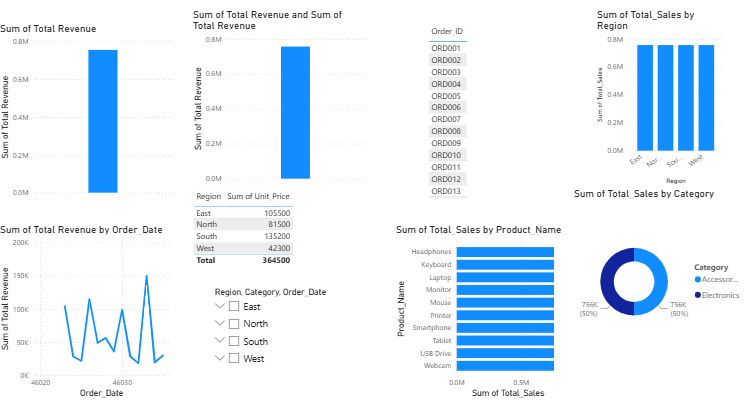

Layout of this report page (visuals, bound fields, positions):
{"tool":"powerbi","page":{"name":"Page 1","canvas":[1280,720],"ordinal":0},"visuals":[{"type":"columnChart","fields":{"Y":["Sum(Sheet1.Total_Sales)"]},"box":[0,0,300,300],"z":0},{"type":"lineChart","fields":{"Category":["Sheet1.Order_Date"],"Y":["Sum(Sheet1.Total_Sales)"]},"box":[0,310,300,300],"z":1},{"type":"clusteredColumnChart","fields":{"Y":["Sum(Sheet1.Total_Sales)","Sum(Sheet1.Total_Sales)"]},"box":[323.7,0,300,300],"z":2},{"type":"tableEx","fields":{"Values":["Sheet1.Order_ID"]},"box":[742,0,300,300],"z":3},{"type":"tableEx","fields":{"Values":["Sheet1.Region","Sum(Sheet1.Unit_Price)"]},"box":[324,310,300,300],"z":4},{"type":"clusteredBarChart","fields":{"Category":["Sheet1.Product_Name"],"Y":["Sum(Sheet1 (2).Total_Sales)"]},"box":[655.1,324.2,299,299],"z":5},{"type":"donutChart","fields":{"Category":["Sheet1.Category"],"Y":["Sum(Sheet1 (2).Total_Sales)"]},"box":[964,324,299,299],"z":6},{"type":"columnChart","fields":{"Category":["Sheet1.Region"],"Y":["Sum(Sheet1 (2).Total_Sales)"]},"box":[1042,0,221,300],"z":7},{"type":"slicer","fields":{"Values":["Sheet1.Region","Sheet1.Category","Sheet1.Order_Date"]},"box":[352.8,473.7,240.2,233.5],"z":8}]}

Visuals, with their boxes in screenshot pixels (x1, y1, x2, y2), scaled from the page's 1280x720 canvas onto the 755x419 screenshot:
columnChart - Sum(Sheet1.Total_Sales): 0,0,177,175
lineChart - Sheet1.Order_Date x Sum(Sheet1.Total_Sales): 0,180,177,355
clusteredColumnChart - Sum(Sheet1.Total_Sales) x Sum(Sheet1.Total_Sales): 191,0,368,175
tableEx - Sheet1.Order_ID: 438,0,615,175
tableEx - Sheet1.Region x Sum(Sheet1.Unit_Price): 191,180,368,355
clusteredBarChart - Sheet1.Product_Name x Sum(Sheet1 (2).Total_Sales): 386,189,563,363
donutChart - Sheet1.Category x Sum(Sheet1 (2).Total_Sales): 569,189,745,363
columnChart - Sheet1.Region x Sum(Sheet1 (2).Total_Sales): 615,0,745,175
slicer - Sheet1.Region x Sheet1.Category: 208,276,350,412
